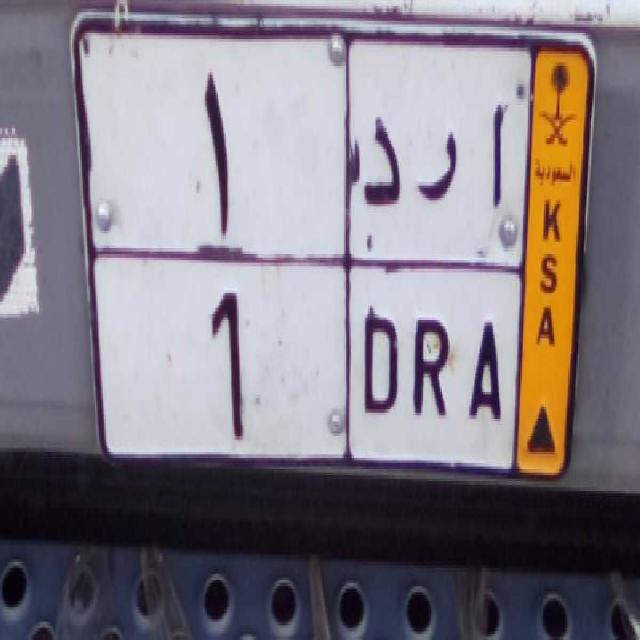license_plate: (94, 248, 518, 476)
